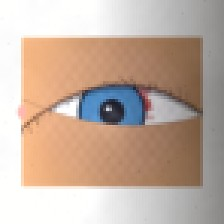hemorrhage_spot: (72, 67, 164, 140)
